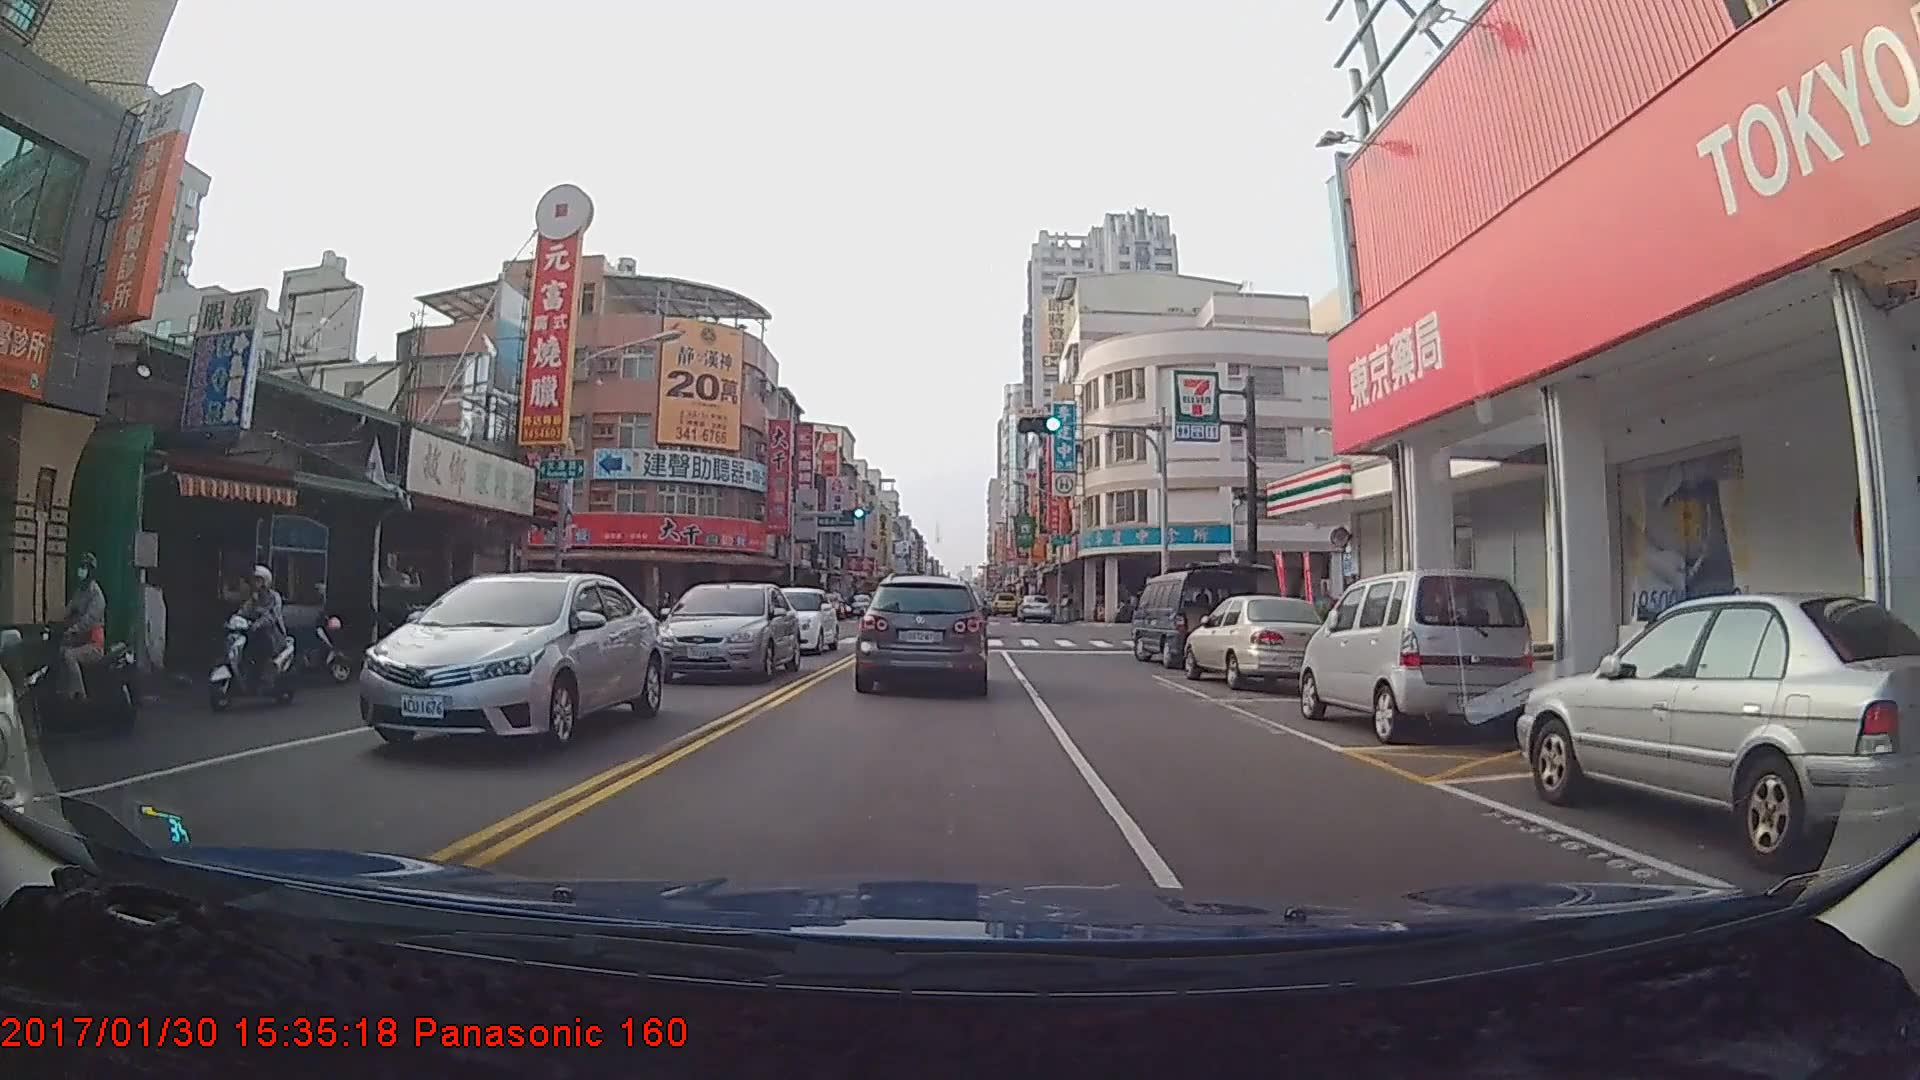rider: (37, 549, 144, 733), (200, 558, 304, 708)
vehicle: (1520, 590, 1909, 864), (350, 569, 670, 768), (1301, 568, 1527, 744), (649, 580, 801, 684), (858, 573, 987, 694), (1186, 594, 1327, 692), (1131, 571, 1257, 665), (750, 583, 840, 653), (1014, 593, 1053, 621), (992, 592, 1016, 614)
